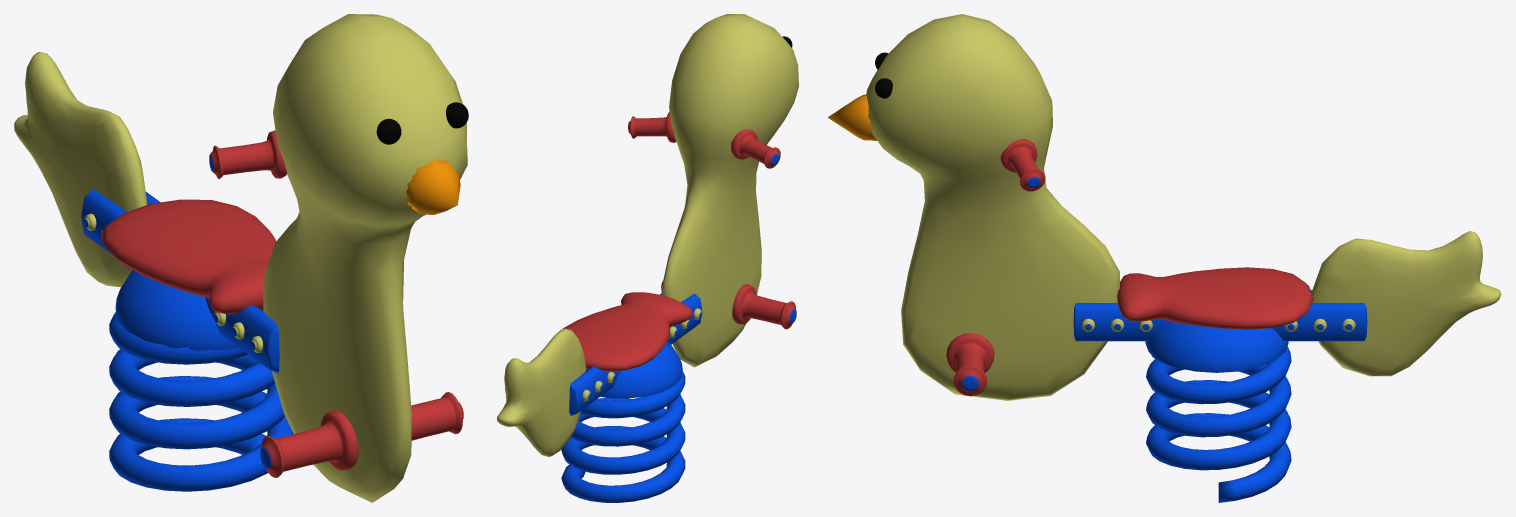
Rendered from SpringRocker_Duck.fbx.
The picture shows the model from 3 angles, left to right: view 1: azimuth 30°, elevation 25°; view 2: azimuth 150°, elevation 25°; view 3: azimuth 270°, elevation 25°; orthographic projection. The views are drawn at different scales.
Parts seen in each view (by area): view 1: polySurface1; view 2: polySurface1; view 3: polySurface1.
Part boxes in pixels (box(x1,y1,x2,y2)): polySurface1: box(14, 14, 468, 502); polySurface1: box(497, 14, 798, 502); polySurface1: box(828, 14, 1501, 502).
Bounding box in the file's own units: 0.547 × 1.38 × 1.84.
